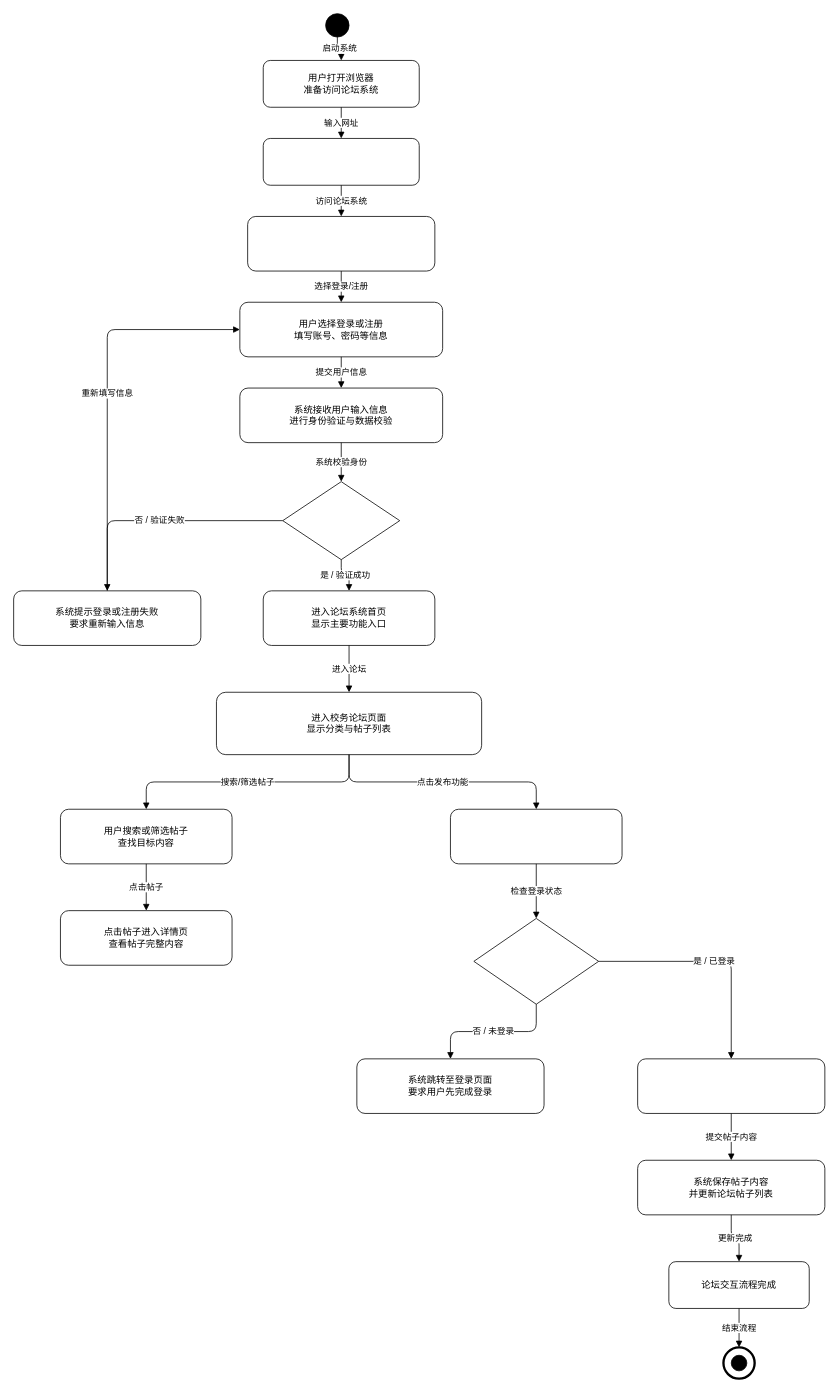
Image size: 838x1393. Some labels were removed from this diagram. The shapes that lost their labels are listed below. From the top down, each one's centre as x and y in pixels, then its label:
At pixel 340 161: "输入论坛系统访问地址 进入系统入口页面".
At pixel 341 243: "系统显示登录/注册页面 等待用户进行身份操作".
At pixel 341 520: "验证是否成功？".
At pixel 536 836: "用户点击发布帖子功能 准备发布新内容".
At pixel 536 961: "用户是否已登录？".
At pixel 731 1085: "用户填写帖子标题与内容 提交发帖请求".
